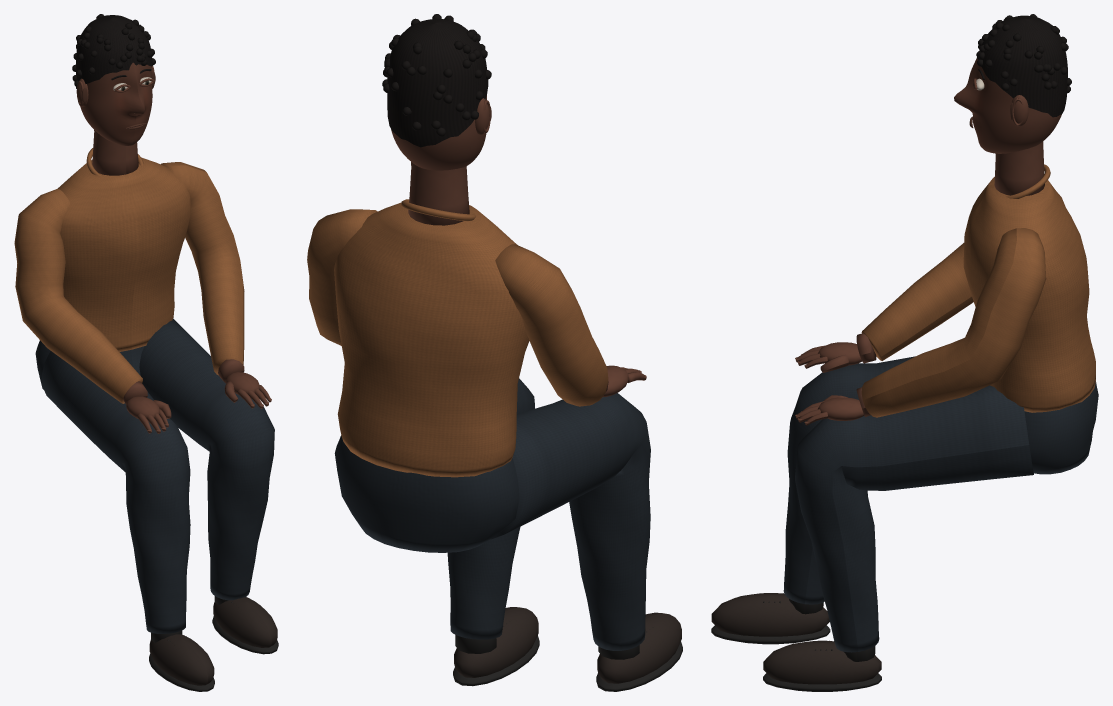
Rendered from 05_Theo_LOD1.glb.
The picture shows the model from 3 angles, left to right: view 1: azimuth 30°, elevation 25°; view 2: azimuth 150°, elevation 25°; view 3: azimuth 270°, elevation 25°; orthographic projection. The views are drawn at different scales.
Parts seen in each view (by area): view 1: top, trousers, skin, shoes, hair, face, sole; view 2: top, trousers, hair, shoes, skin, sole, face; view 3: trousers, top, shoes, hair, skin, face, sole.
Boxes of the visible parts, left/top/right/bottom form: top: left=14, top=148, right=244, bottom=403; trousers: left=35, top=318, right=274, bottom=633; skin: left=76, top=66, right=271, bottom=433; shoes: left=149, top=597, right=277, bottom=685; hair: left=72, top=14, right=155, bottom=88; face: left=80, top=62, right=152, bottom=145; sole: left=149, top=596, right=278, bottom=691; top: left=307, top=199, right=608, bottom=477; trousers: left=334, top=378, right=650, bottom=650; hair: left=382, top=14, right=491, bottom=147; shoes: left=454, top=607, right=681, bottom=683; skin: left=408, top=98, right=646, bottom=397; sole: left=453, top=621, right=682, bottom=691; face: left=391, top=95, right=486, bottom=170; trousers: left=783, top=356, right=1098, bottom=652; top: left=861, top=164, right=1095, bottom=417; shoes: left=711, top=593, right=881, bottom=684; hair: left=976, top=14, right=1071, bottom=117; skin: left=795, top=78, right=1044, bottom=425; face: left=954, top=58, right=1061, bottom=153; sole: left=711, top=593, right=881, bottom=691.
Size of the model in its own units: 0.5714 by 1.45 by 0.7874.
Materials: 12 (12 with a texture image).
